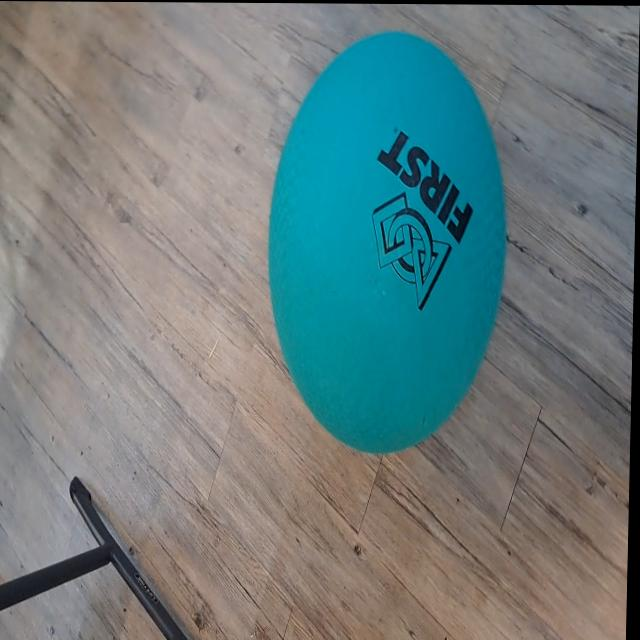ALGAE: (261, 28, 512, 458)
